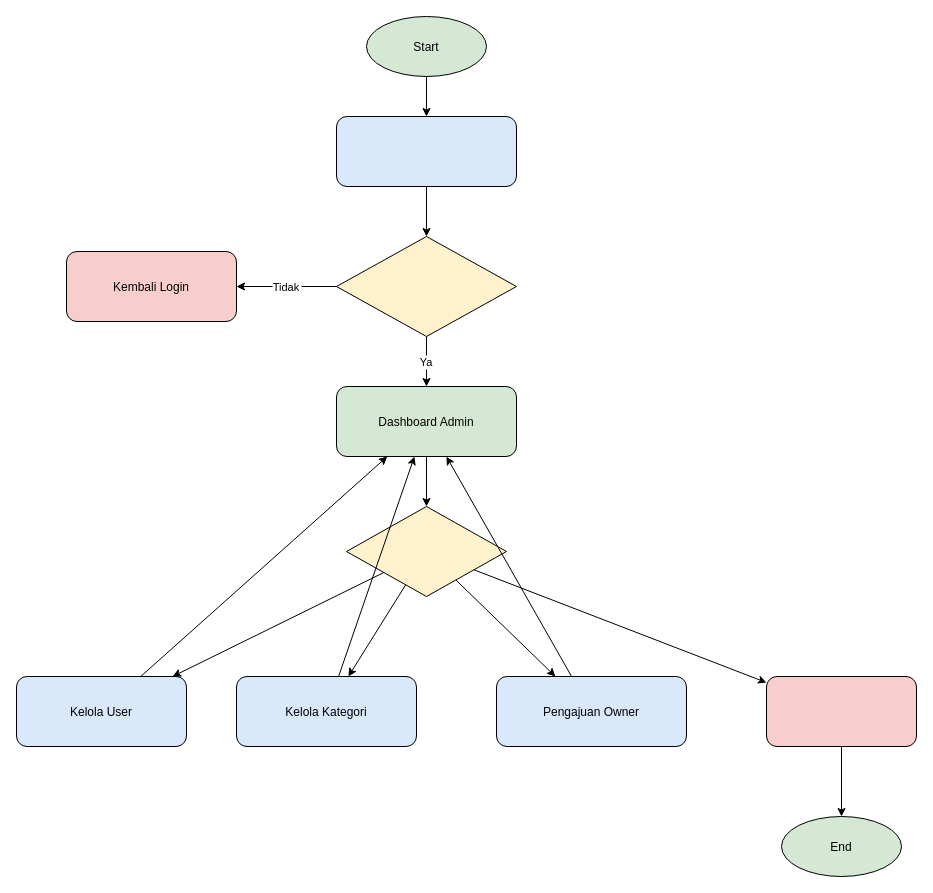
This 933x893 diagram has some shape labels left out. The shapes that lost their labels are listed below. From the top down, each one's centre as x and y in pixels, then its label:
the point at 426,151: Login Admin
the point at 426,286: Login Berhasil?
the point at 426,551: Pilih Menu
the point at 841,711: Logout
